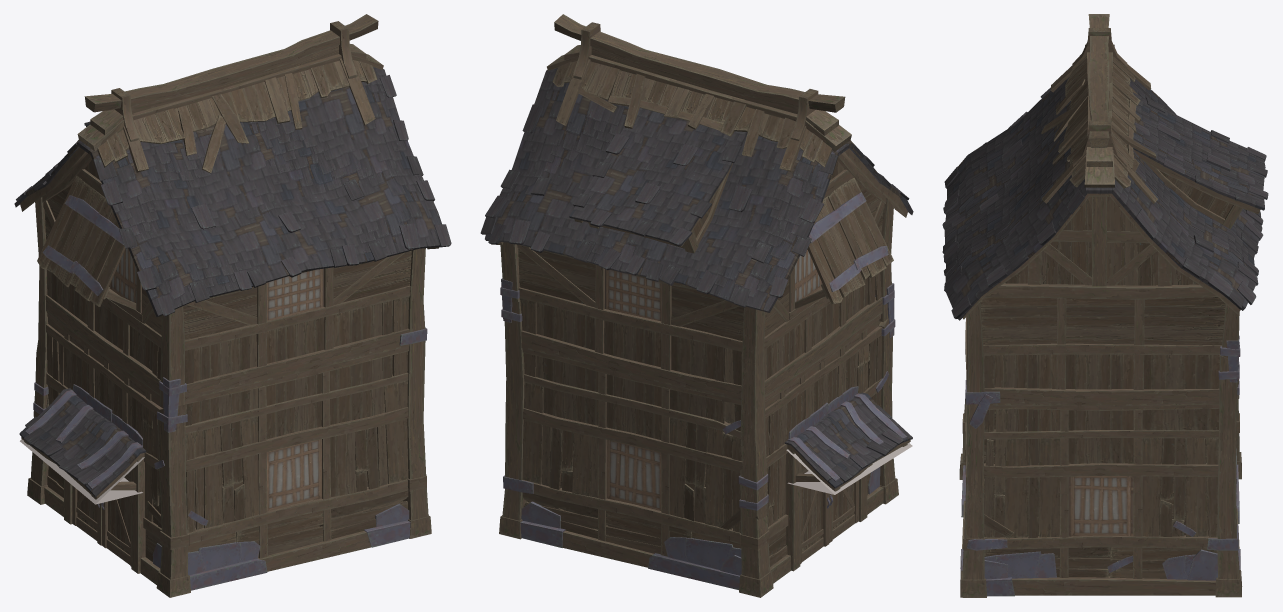
Rendered from Homeworld_Exterior_Dq_Build_House_19_Lod0.fbx.
3 views of the same model, side by side, from view 1: azimuth 30°, elevation 25°; view 2: azimuth 150°, elevation 25°; view 3: azimuth 270°, elevation 25° (orthographic).
Parts seen in each view (by area): view 1: Area_Dq_Build_SWZ_LuXin_03_Lod0, Area_Dq_Build_SWZ_LuXin_03_Ocl; view 2: Area_Dq_Build_SWZ_LuXin_03_Lod0, Area_Dq_Build_SWZ_LuXin_03_Ocl; view 3: Area_Dq_Build_SWZ_LuXin_03_Lod0.
Boxes of the visible parts, x1,y1,x2,y2 form: Area_Dq_Build_SWZ_LuXin_03_Lod0: (14, 14, 451, 597); Area_Dq_Build_SWZ_LuXin_03_Ocl: (20, 439, 144, 504); Area_Dq_Build_SWZ_LuXin_03_Lod0: (480, 14, 913, 597); Area_Dq_Build_SWZ_LuXin_03_Ocl: (786, 443, 912, 494); Area_Dq_Build_SWZ_LuXin_03_Lod0: (942, 14, 1268, 597).
Size of what is drawn, in the model's own units: 8.82 by 11.8 by 7.5.
